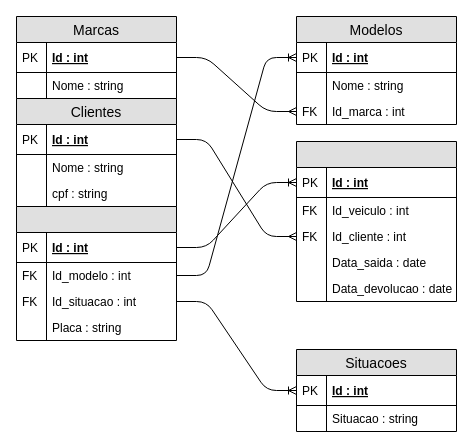
The diagram is 473 pixels wide and 448 high, and some of its shapes have lost their labels. Each missing label, with the box of its shape:
Alugueis: (296, 140, 456, 302)
Veiculos: (16, 206, 176, 340)
